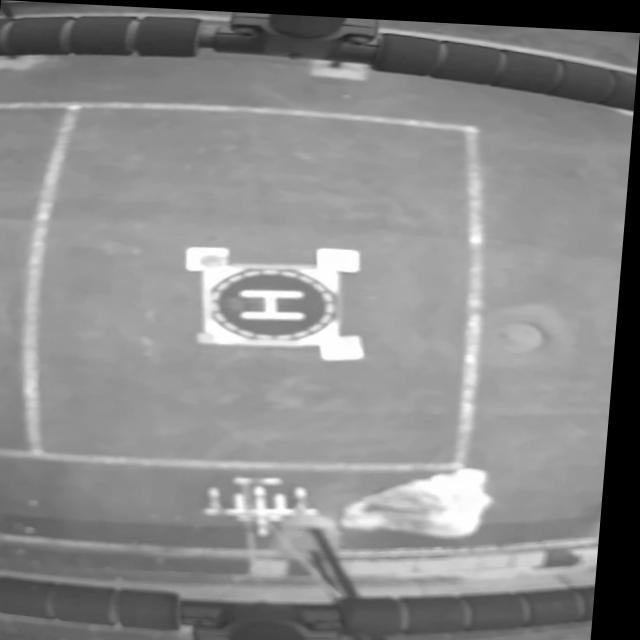Helipad: (244, 287, 310, 317)
